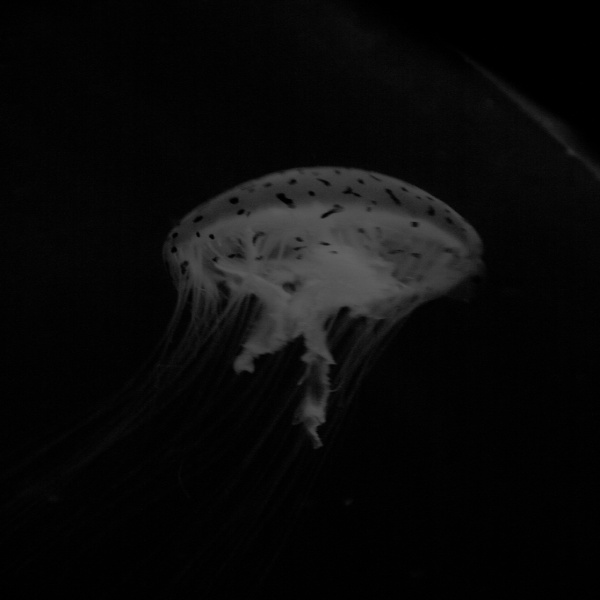Jellyfish: (55, 176, 499, 557)
